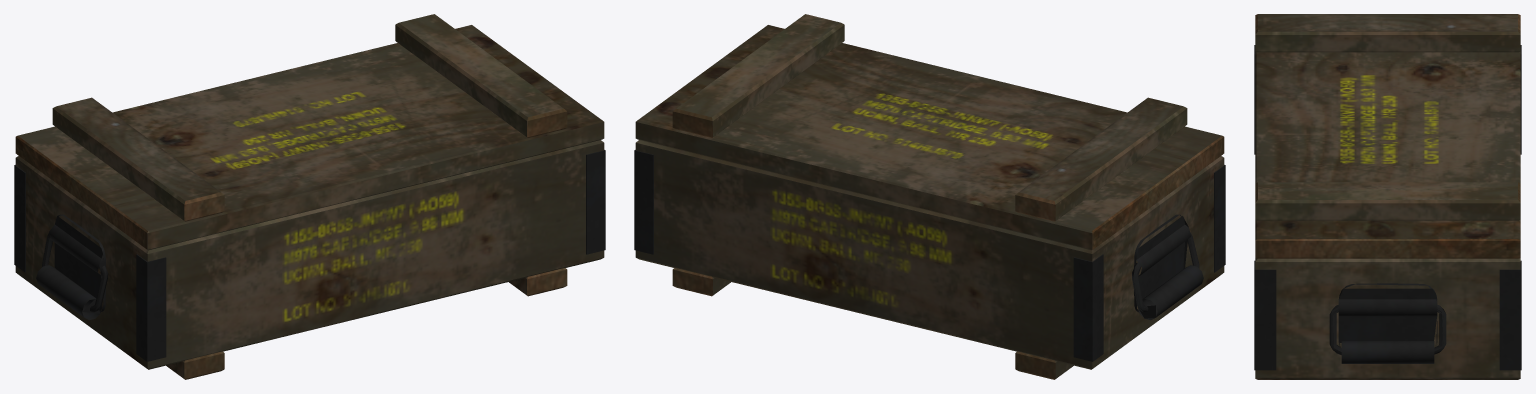
File: InventoryBox.fbx
3 renders of one model, left to right at view 1: azimuth 30°, elevation 25°; view 2: azimuth 150°, elevation 25°; view 3: azimuth 270°, elevation 25°, orthographic.
Parts seen in each view (by area): view 1: dz_ammo1; view 2: dz_ammo1; view 3: dz_ammo1.
Part boxes in pixels (<box>): dz_ammo1: <box>14,14,605,379</box>; dz_ammo1: <box>634,14,1225,379</box>; dz_ammo1: <box>1254,14,1521,379</box>.
Bounding box in the file's own units: 64.27 × 21.91 × 29.49.
2 materials, 2 textured.
